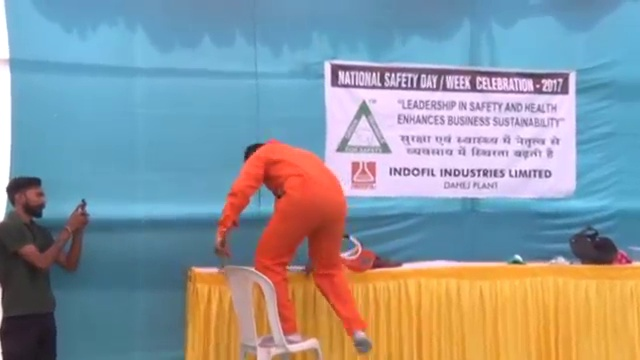helmet_off: (5, 176, 47, 221)
person: (203, 145, 372, 360), (1, 175, 92, 359)
